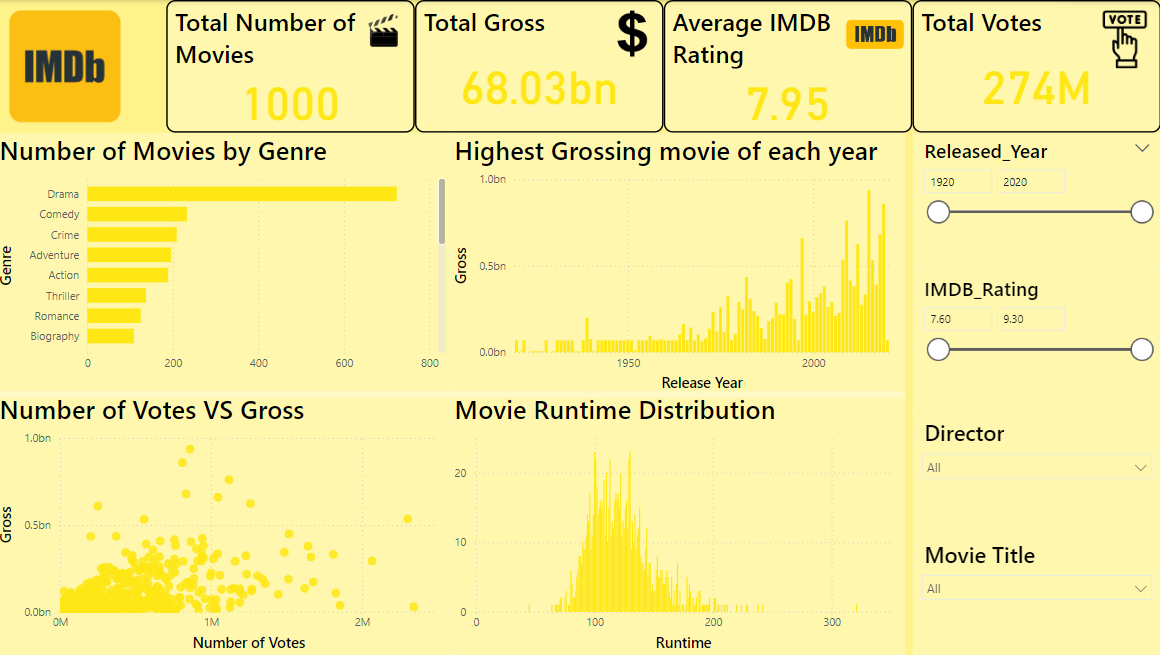

This screenshot's page, from the dashboard's own definition file:
{"tool":"powerbi","page":{"name":"Dashboard","canvas":[1280,720],"ordinal":5},"visuals":[{"type":"card","title":"Total Votes","fields":{"Values":["Sum(imdb_movies.No_of_Votes)"]},"box":[1007.2,0,273.1,145.5],"z":0},{"type":"image","box":[1200.7,6.9,79.6,72.7],"z":1000},{"type":"image","box":[0,0,153.7,145.5],"z":2000},{"type":"card","title":"Average IMDB Rating","fields":{"Values":["Avg(imdb_movies.IMDB_Rating)"]},"box":[734.1,0,273.1,145.5],"z":3000},{"type":"image","box":[924.9,0,82.3,72.7],"z":4000},{"type":"card","title":"Total Gross","fields":{"Values":["Sum(imdb_movies.Gross)"]},"box":[461.1,0,273.1,145.5],"z":5000},{"type":"image","box":[665.5,6.9,68.6,60.4],"z":6000},{"type":"clusteredBarChart","title":"Number of Movies by Genre","fields":{"Category":["Genres.Genre"],"Y":["CountNonNull(Genres.Movie_ID)"]},"box":[0,145.5,500,290],"z":7000},{"type":"scatterChart","title":"Number of Votes VS Gross","fields":{"X":["imdb_movies.No_of_Votes"],"Y":["imdb_movies.Gross"]},"box":[0,429.5,500,290.9],"z":8000},{"type":"slicer","fields":{"Values":["imdb_movies.Released_Year"]},"box":[1007.2,145.5,273.1,150.9],"z":9000},{"type":"clusteredColumnChart","title":"Movie Runtime Distribution","fields":{"Category":["imdb_movies.Runtime_min"],"Y":["CountNonNull(imdb_movies.Series_Title)"]},"box":[499.5,429.5,500,290.9],"z":10000},{"type":"clusteredColumnChart","title":"Highest Grossing movie of each year","fields":{"Category":["imdb_movies.Released_Year"],"Y":["Max(imdb_movies.Gross)"]},"box":[499.5,145.5,500,290],"z":11000},{"type":"slicer","fields":{"Values":["imdb_movies.IMDB_Rating"]},"box":[1007.2,296.4,273.1,157.8],"z":12000},{"type":"card","title":"Total Number of Movies","fields":{"Values":["CountNonNull(imdb_movies.Movie_ID)"]},"box":[188,0,273.1,145.5],"z":13000},{"type":"image","box":[391.1,0,70,67.2],"z":14000},{"type":"slicer","fields":{"Values":["imdb_movies.Director"]},"box":[1007.2,454.2,273.1,133.1],"z":15000},{"type":"slicer","fields":{"Values":["imdb_movies.Series_Title"]},"box":[1007.2,587.3,273.1,133.1],"z":15001}]}

Visuals, with their boxes in screenshot pixels (x1, y1, x2, y2), scaled from the page's 1280x720 canvas onto the 1160x655 screenshot:
"Total Votes" card: <box>913,0,1159,132</box>
image: <box>1088,6,1159,72</box>
image: <box>0,0,139,132</box>
"Average IMDB Rating" card: <box>665,0,913,132</box>
image: <box>838,0,913,66</box>
"Total Gross" card: <box>418,0,665,132</box>
image: <box>603,6,665,61</box>
"Number of Movies by Genre" clusteredBarChart: <box>0,132,453,396</box>
"Number of Votes VS Gross" scatterChart: <box>0,391,453,654</box>
slicer - imdb_movies.Released_Year: <box>913,132,1159,270</box>
"Movie Runtime Distribution" clusteredColumnChart: <box>453,391,906,654</box>
"Highest Grossing movie of each year" clusteredColumnChart: <box>453,132,906,396</box>
slicer - imdb_movies.IMDB_Rating: <box>913,270,1159,413</box>
"Total Number of Movies" card: <box>170,0,418,132</box>
image: <box>354,0,418,61</box>
slicer - imdb_movies.Director: <box>913,413,1159,534</box>
slicer - imdb_movies.Series_Title: <box>913,534,1159,654</box>
